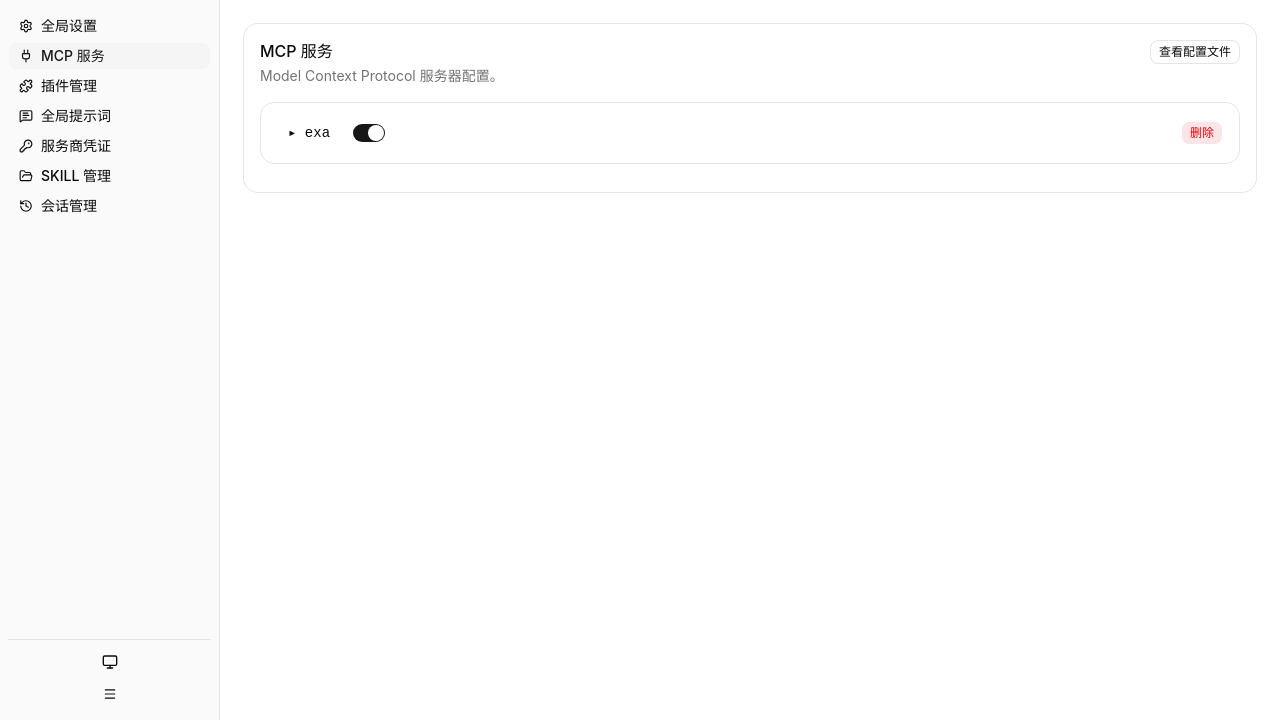
Test: App › navigates to the session manager
The image size is (1280, 720).
Expected: the button with aria-label "展开 exa" is shown, 277,119 -> 341,147
Click the button "会话管理". click: (110, 206)
box: 8,192 -> 211,220
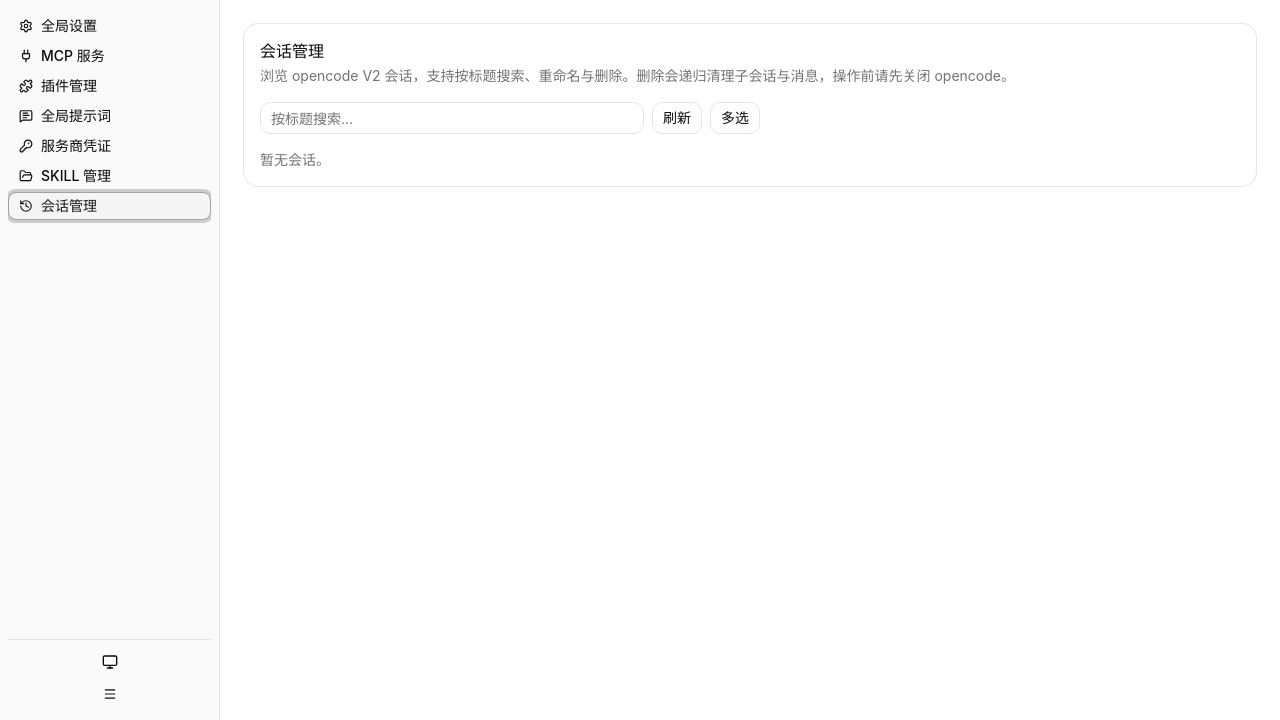
Expected: the text "暂无会话。" is shown, 260,151 -> 330,168
